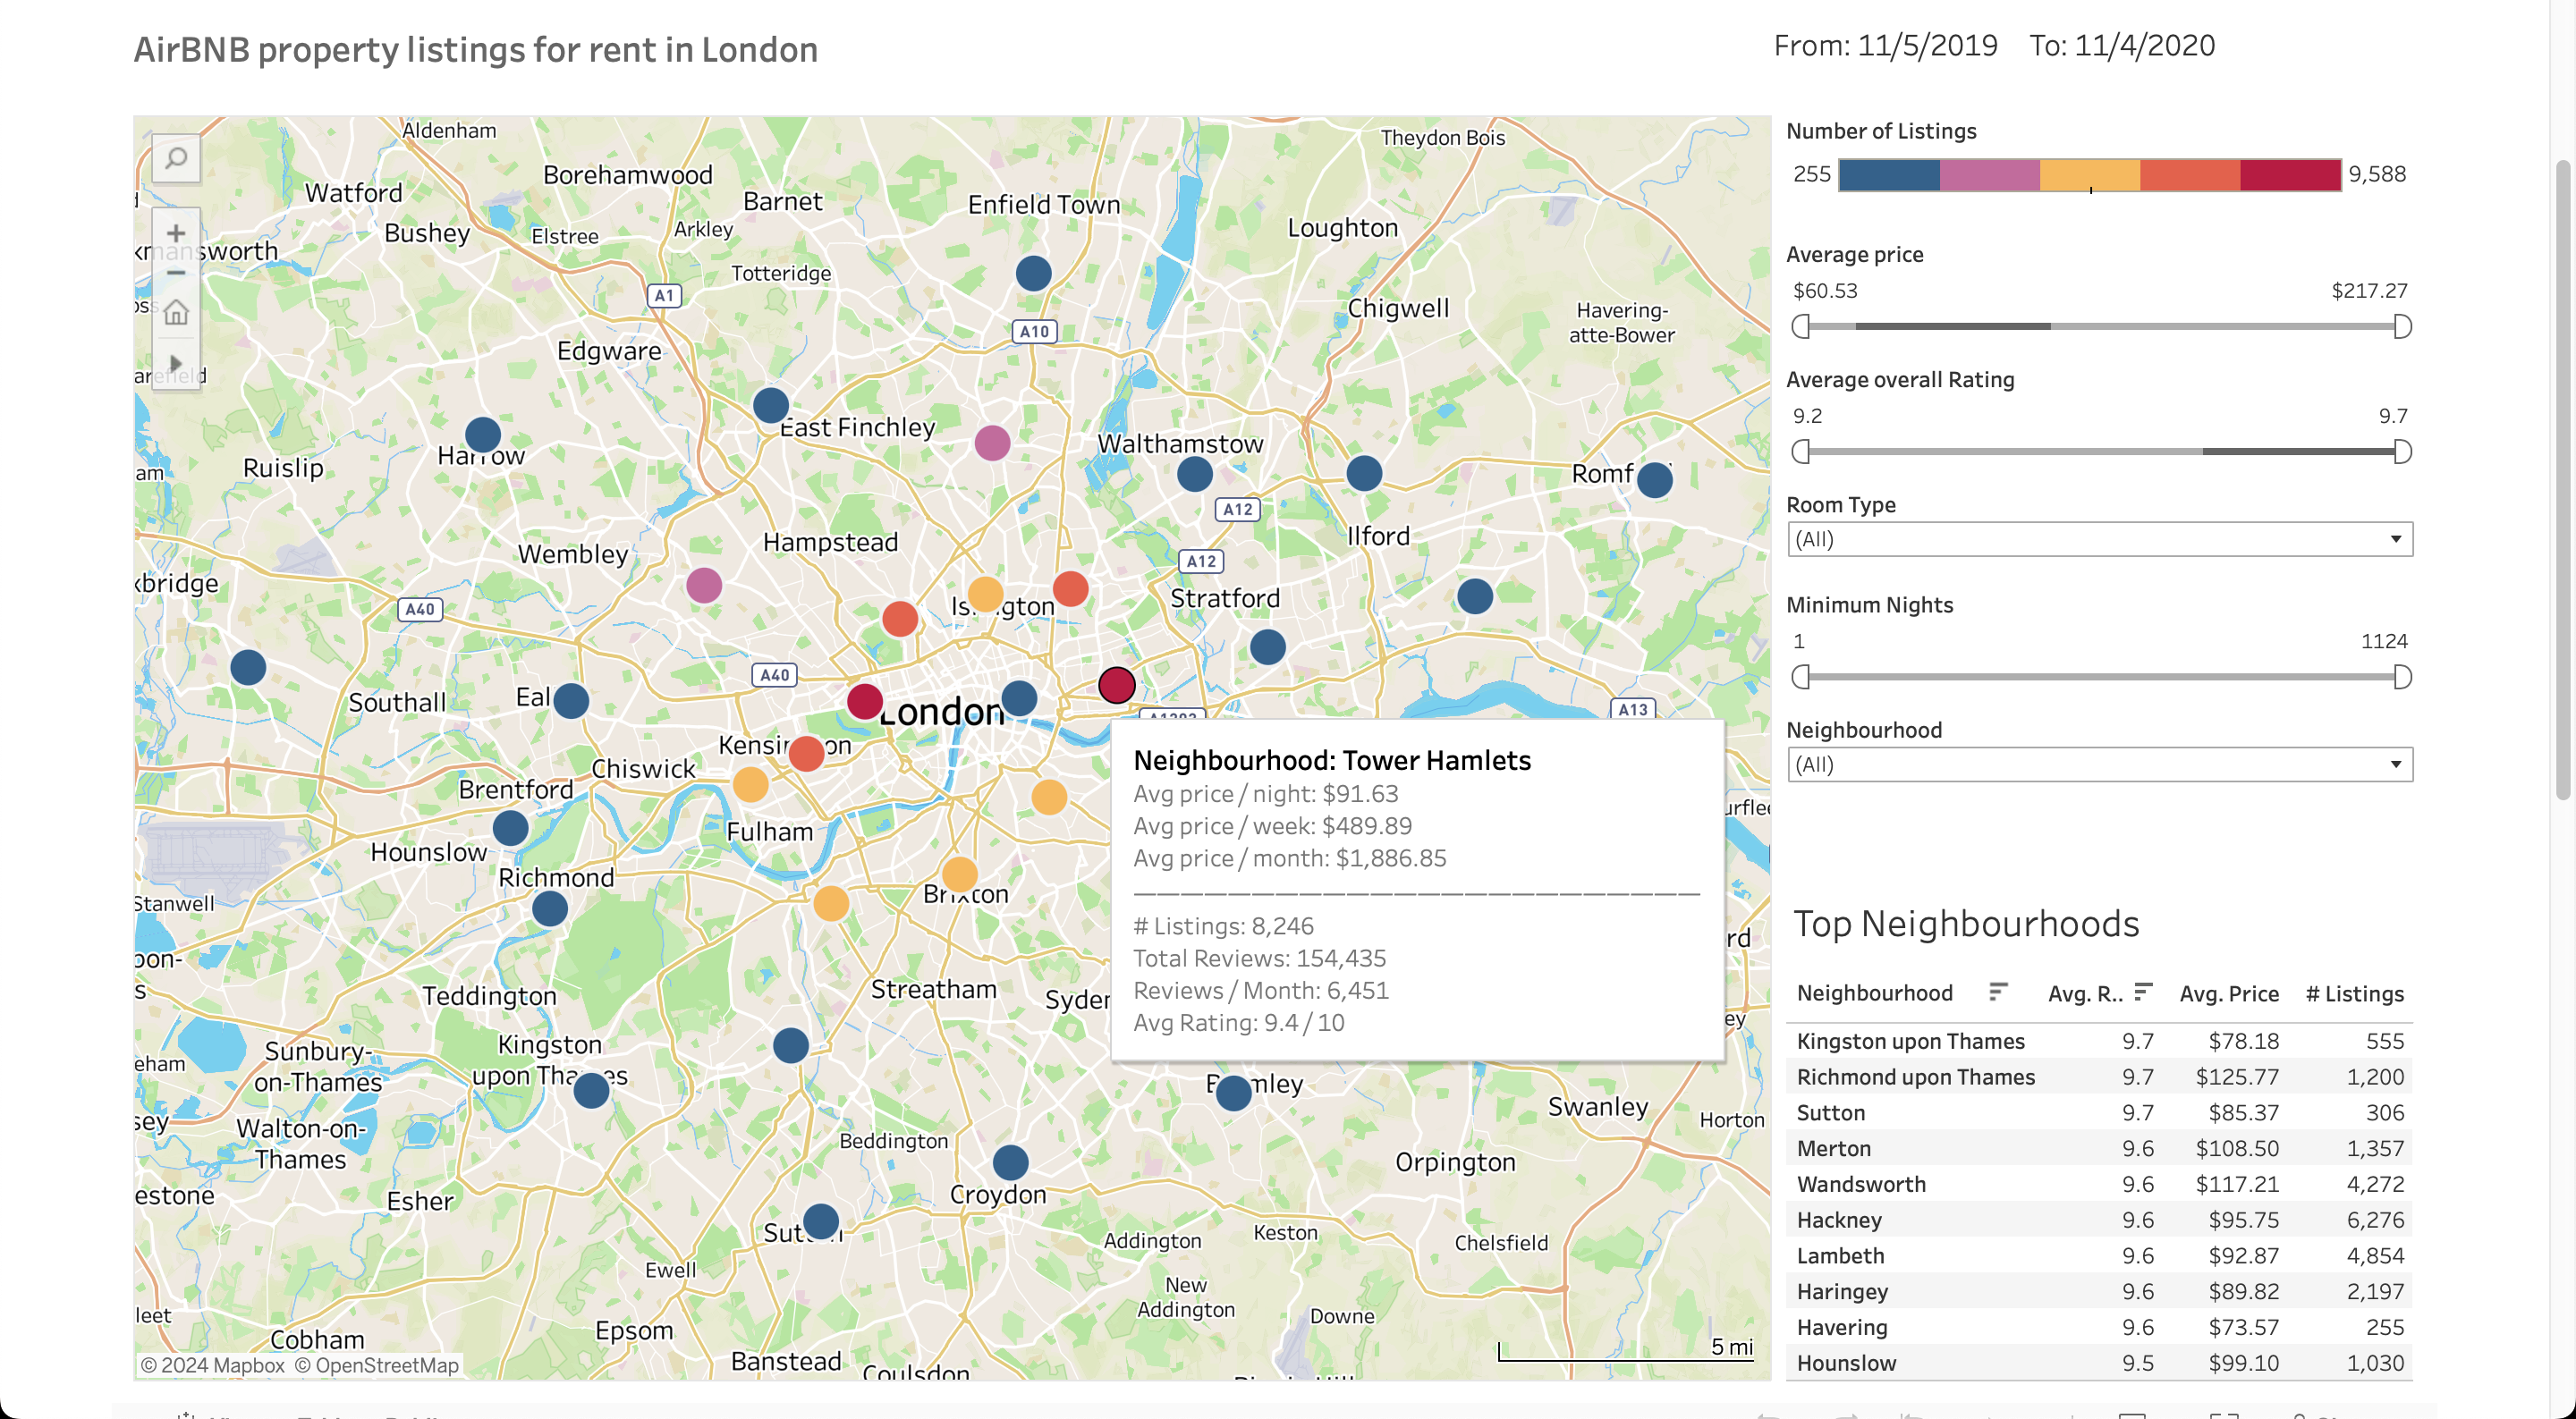

What the dashboard file says about the page in this screenshot:
{"tool":"tableau","page":{"name":"London Dashboard","canvas":[1300,800],"ordinal":0},"visuals":[{"type":"text","box":[8,8,913,68]},{"type":"worksheet","title":"Show Date ","mark":"Text","box":[921,8,369,68]},{"type":"worksheet","title":"Listings based on London","mark":"Automatic","rows":["latitude (listings_summary.csv)"],"cols":["longitude (listings_summary.csv)"],"box":[8,76,924,716]},{"type":"legend","title":"Listings based on London","param":"[federated.07x1vm213vxf0q18wj5k70sd92d8].[ctd:id (listings_summary.csv):qk]","box":[932,76,360,65]},{"type":"filter","title":"Top Neighbourhoods","param":"[federated.07x1vm213vxf0q18wj5k70sd92d8].[avg:price (listings_summary.csv):qk]","box":[932,141,360,51]},{"type":"filter","title":"Top Neighbourhoods","param":"[federated.07x1vm213vxf0q18wj5k70sd92d8].[avg:Calculation_2187201315364352001:qk","box":[932,192,360,51]},{"type":"filter","title":"Top Neighbourhoods","param":"[federated.07x1vm213vxf0q18wj5k70sd92d8].[none:room_type (listings_summary.csv):","box":[932,243,360,52]},{"type":"filter","title":"Top Neighbourhoods","param":"[federated.07x1vm213vxf0q18wj5k70sd92d8].[none:minimum_nights (listings_summary.","box":[932,295,360,51]},{"type":"filter","title":"Listings based on London","param":"[federated.07x1vm213vxf0q18wj5k70sd92d8].[none:neighbourhood (listings_summary.c","box":[932,346,360,52]},{"type":"blank","box":[932,398,360,109]},{"type":"worksheet","title":"Top Neighbourhoods","mark":"Automatic","rows":["neighbourhood (listings_summary.csv)"],"box":[932,507,360,285]}]}

Visuals, with their boxes on the page's 1300x800 design canvas (x1, y1, x2, y2). These are canvas units, not pixel positions in the 2576x1419 screenshot, which may show the page scaled, cropped or inside an application window:
text: locate(8, 8, 921, 76)
"Show Date " worksheet (Text marks): locate(921, 8, 1290, 76)
"Listings based on London" worksheet: locate(8, 76, 932, 792)
"Listings based on London" legend: locate(932, 76, 1292, 141)
"Top Neighbourhoods" filter: locate(932, 141, 1292, 192)
"Top Neighbourhoods" filter: locate(932, 192, 1292, 243)
"Top Neighbourhoods" filter: locate(932, 243, 1292, 295)
"Top Neighbourhoods" filter: locate(932, 295, 1292, 346)
"Listings based on London" filter: locate(932, 346, 1292, 398)
blank: locate(932, 398, 1292, 507)
"Top Neighbourhoods" worksheet: locate(932, 507, 1292, 792)
